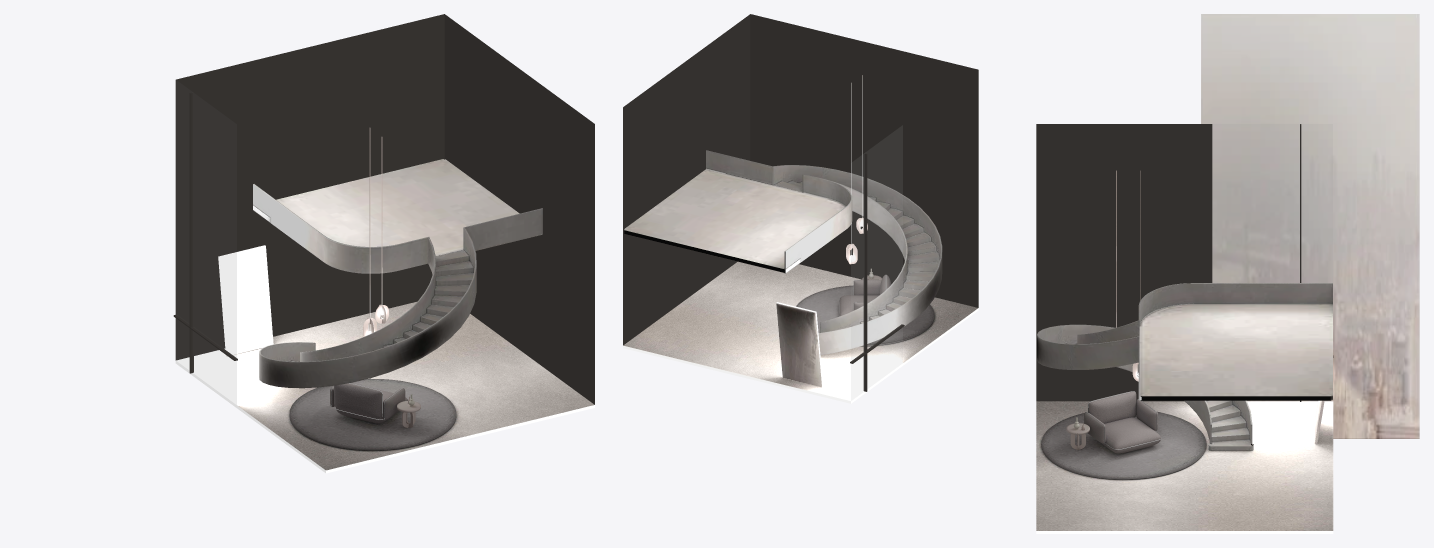
Rendered from room-mobile.glb.
The picture shows the model from 3 angles, left to right: view 1: azimuth 30°, elevation 25°; view 2: azimuth 150°, elevation 25°; view 3: azimuth 270°, elevation 25°; orthographic projection. The views are drawn at different scales.
Parts seen in each view (by area): view 1: House, floor, Stairs, 2nd_floor, carpet, painting, sofa, lighting; view 2: House, floor, Stairs, 2nd_floor, painting, carpet, sofa, lighting; view 3: outside, House, floor, 2nd_floor, Stairs, carpet, sofa.
Part boxes in pixels (x1,y1,x2,y2): House: (173,14,594,404); floor: (175,302,594,473); Stairs: (253,184,542,388); 2nd_floor: (253,159,536,255); carpet: (289,378,456,450); painting: (218,245,273,356); sofa: (330,382,407,423); lighting: (363,128,388,336); House: (623,14,978,391); floor: (623,261,978,403); Stairs: (706,150,942,355); 2nd_floor: (624,169,845,272); painting: (776,302,822,387); carpet: (796,285,934,346); sofa: (839,275,891,315); lighting: (846,75,867,264); outside: (1201,14,1419,438); House: (1036,124,1333,401); floor: (1036,401,1333,533); 2nd_floor: (1139,304,1332,400); Stairs: (1037,283,1332,450); carpet: (1041,411,1206,479); sofa: (1083,391,1161,453).
Size of the model in its own units: 11.79 by 12.54 by 10.24.
16 materials, 12 textured.
